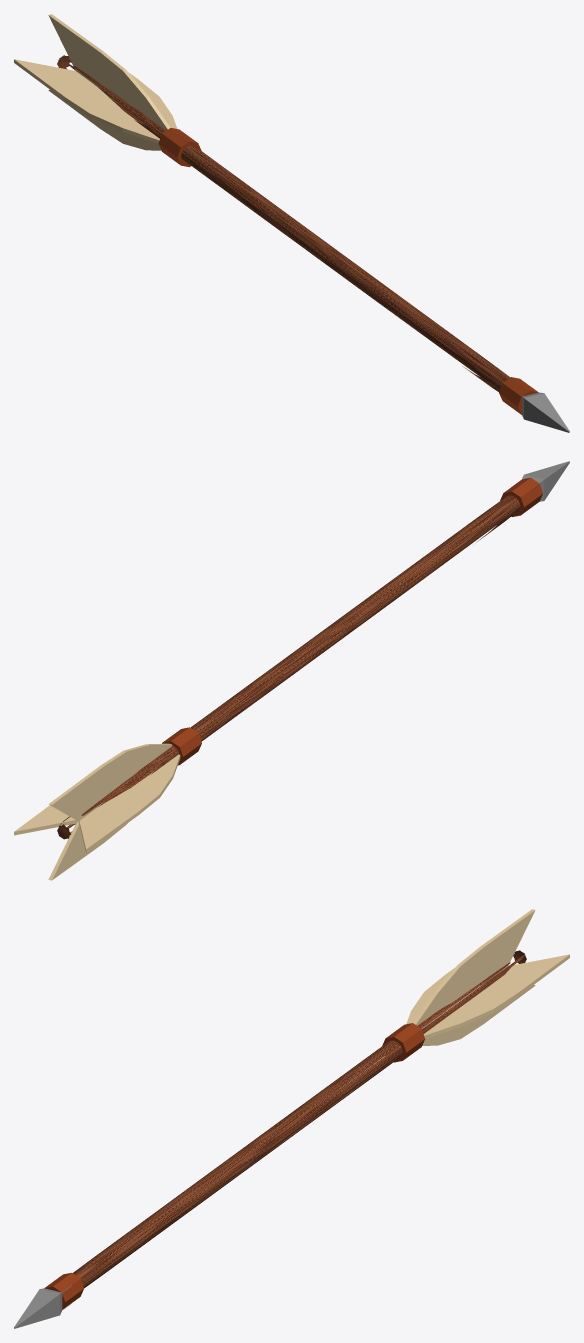
File: arrow.fbx
The picture shows the model from 3 angles, top to bottom: view 1: azimuth 30°, elevation 25°; view 2: azimuth 150°, elevation 25°; view 3: azimuth 330°, elevation 25°; orthographic projection.
Parts seen in each view (by area): view 1: Cylinder.001, Cube.003, Cube.004, Cube.002, Cylinder.003, Cylinder.002; view 2: Cylinder.001, Cube.003, Cube.004, Cylinder.002, Cylinder.003, Cube.002; view 3: Cylinder.001, Cube.003, Cube.004, Cube.002, Cylinder.003, Cylinder.002.
Part boxes in pixels (bbox=[...]): Cylinder.001: bbox=[57, 55, 510, 392]; Cube.003: bbox=[48, 14, 170, 150]; Cube.004: bbox=[14, 59, 177, 143]; Cube.002: bbox=[522, 388, 569, 432]; Cylinder.003: bbox=[158, 128, 201, 167]; Cylinder.002: bbox=[499, 377, 538, 414]; Cylinder.001: bbox=[57, 495, 520, 839]; Cube.003: bbox=[48, 743, 172, 880]; Cube.004: bbox=[14, 754, 180, 852]; Cylinder.002: bbox=[500, 477, 542, 516]; Cylinder.003: bbox=[162, 727, 201, 765]; Cube.002: bbox=[521, 461, 569, 501]; Cylinder.001: bbox=[73, 950, 526, 1288]; Cube.003: bbox=[413, 909, 535, 1045]; Cube.004: bbox=[406, 954, 569, 1038]; Cube.002: bbox=[14, 1285, 72, 1328]; Cylinder.003: bbox=[382, 1023, 425, 1062]; Cylinder.002: bbox=[44, 1272, 83, 1309].
Bounding box in the file's own units: 7.28 × 7.28 × 89.43.
4 materials, 1 textured.
